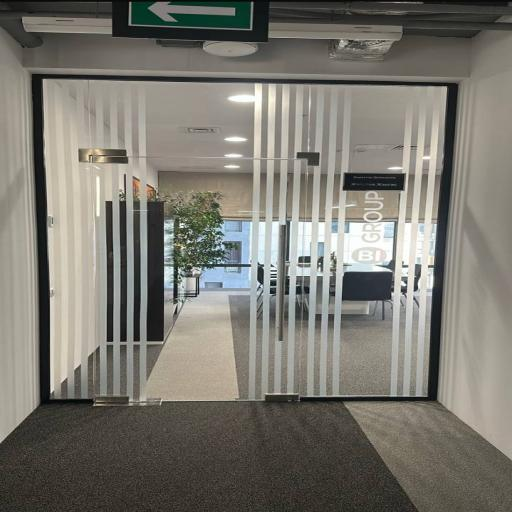elevator: (43, 79, 447, 400)
